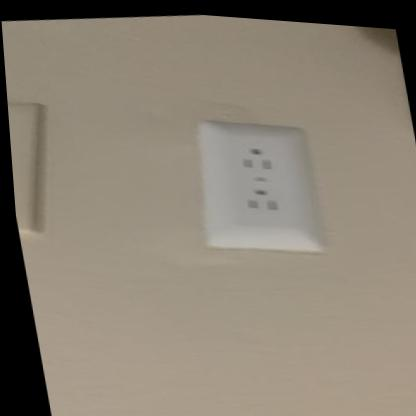OUTLET: (194, 112, 327, 264)
